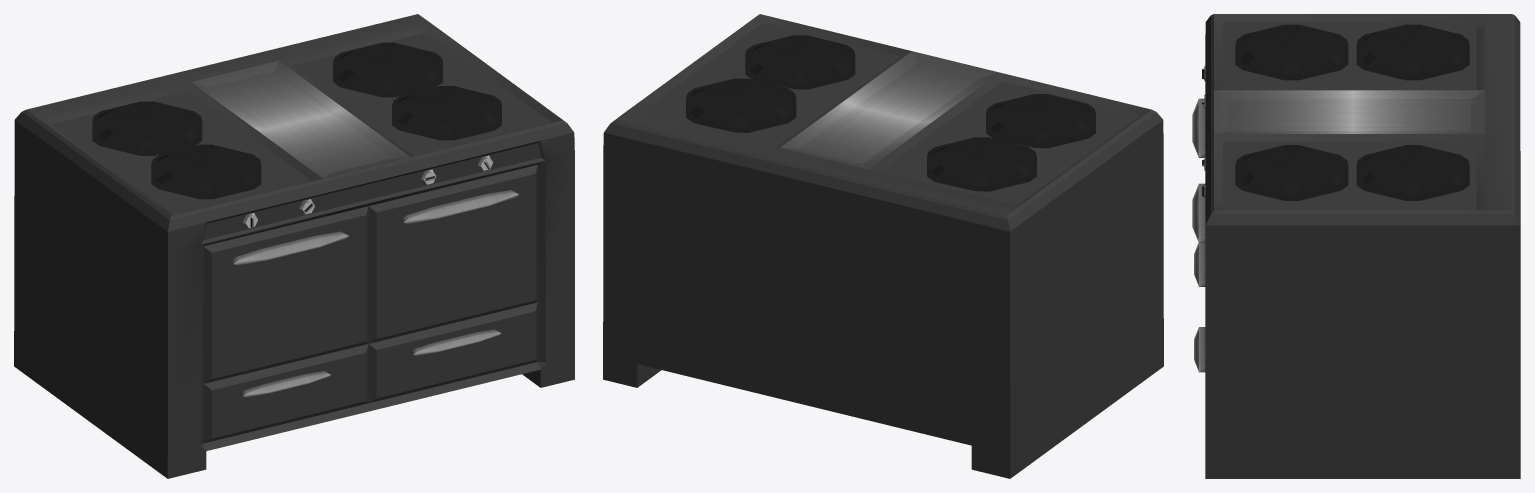
The model's file is Stove_And_Oven_02.FBX.
3 renders of one model, left to right at view 1: azimuth 30°, elevation 25°; view 2: azimuth 150°, elevation 25°; view 3: azimuth 270°, elevation 25°, orthographic. The views are drawn at different scales.
Parts seen in each view (by area): view 1: Oven/Stove; view 2: Oven/Stove; view 3: Oven/Stove.
Part boxes in pixels (x1,y1,x2,y2): Oven/Stove: (14,14,574,478); Oven/Stove: (603,14,1163,478); Oven/Stove: (1192,14,1520,478).
Bounding box in the file's own units: 230 × 143 × 157.
